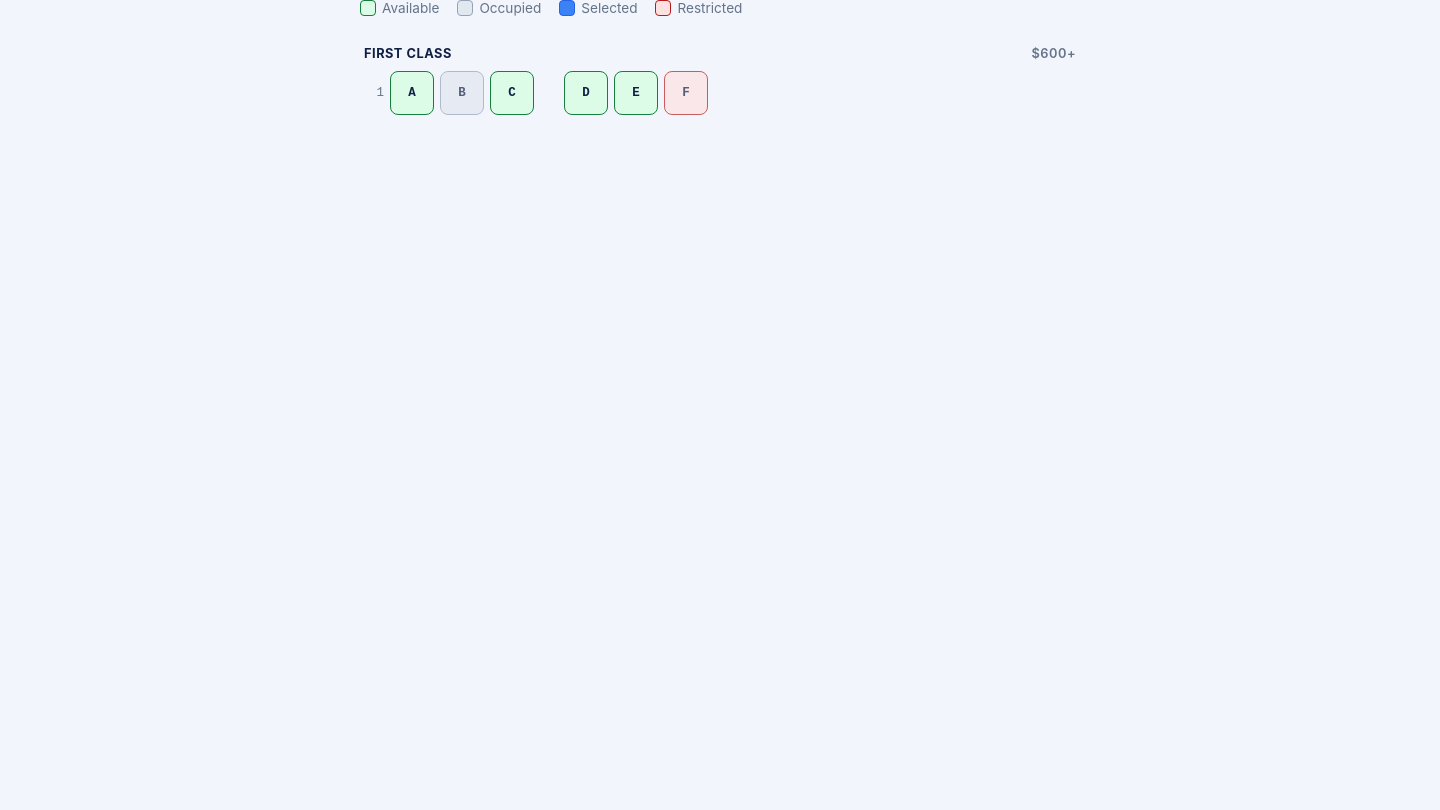
SeatMap Component › removing a selected seat updates the total
The image size is (1440, 810).
Click the button titled "1A - First Class": [412, 93] box x1=390 y1=71 x2=434 y2=115
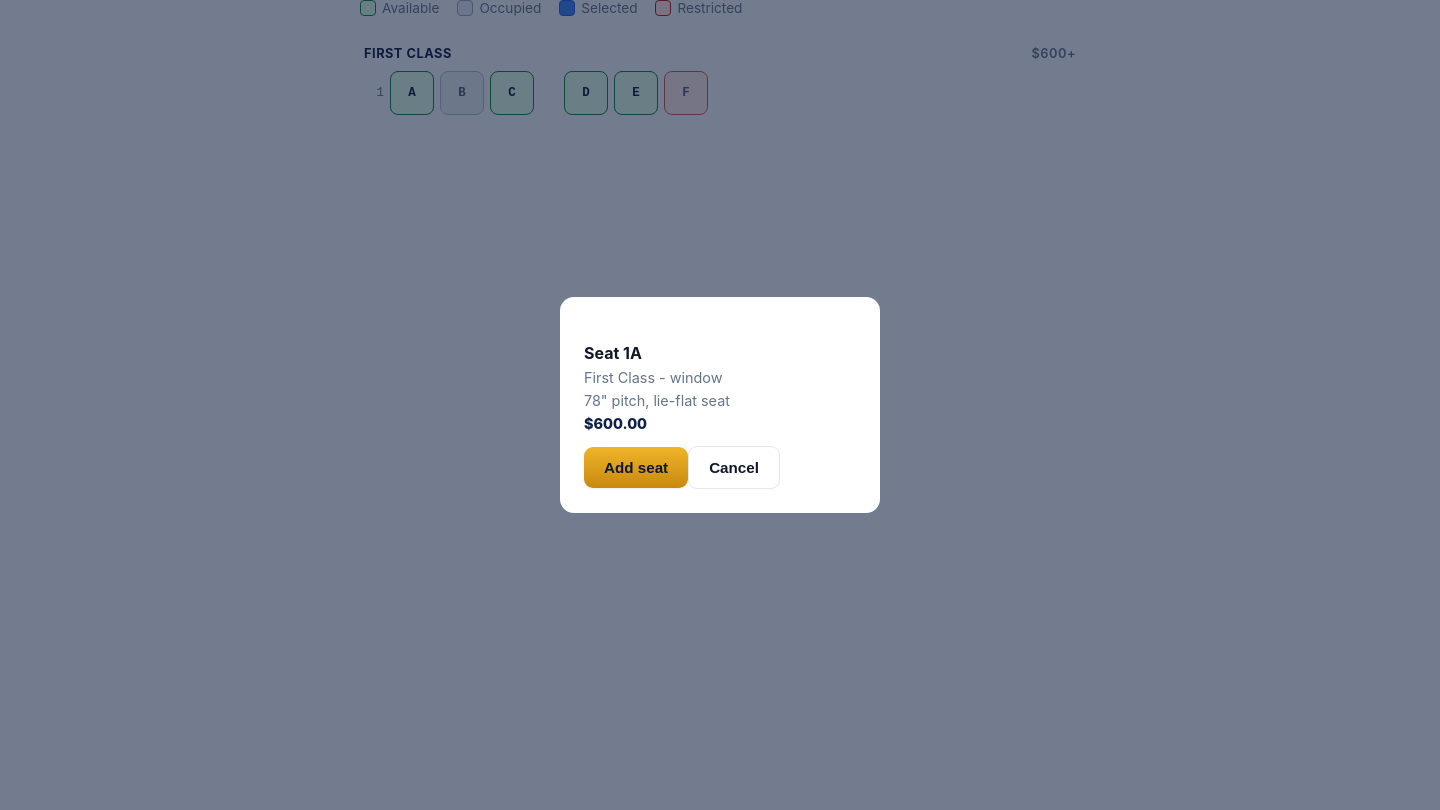
Click the button "Add seat": [636, 467] box x1=584 y1=447 x2=688 y2=488
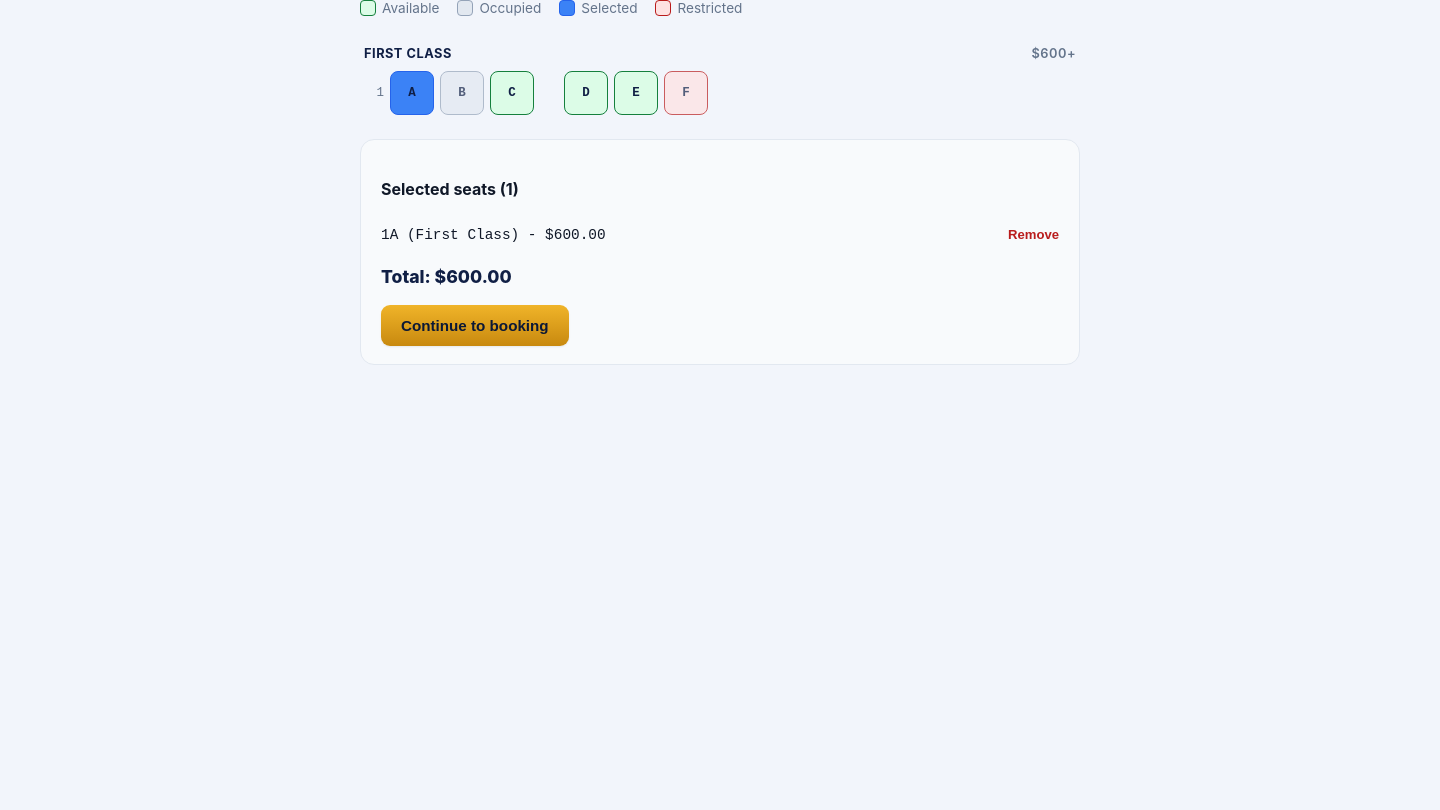
Click the button "Remove": [1028, 234] box x1=996 y1=226 x2=1059 y2=242
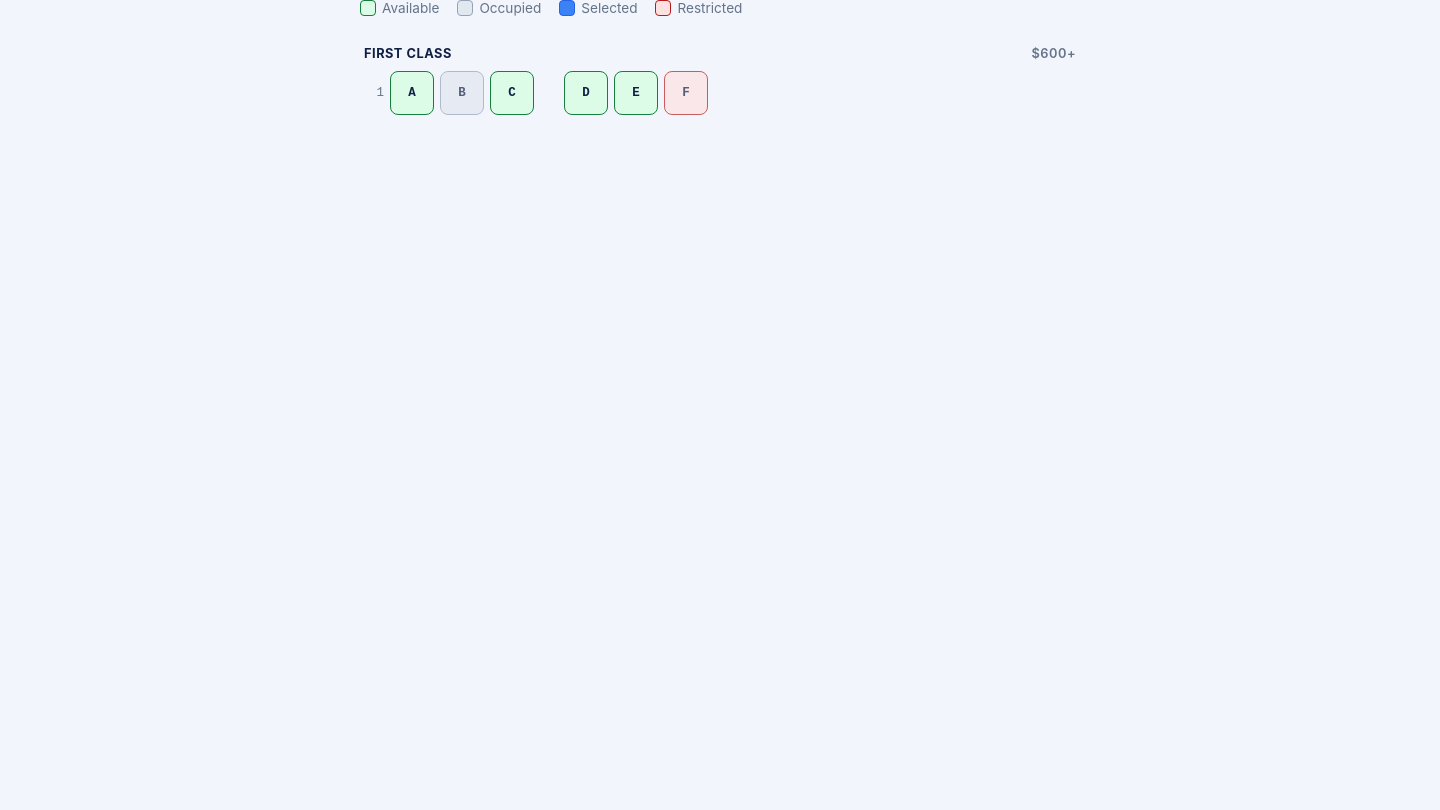
expect the heading "Selected seats" is gone: met
